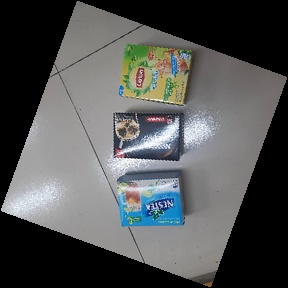CF pho: (112, 110, 184, 162)
LipTon: (117, 42, 193, 107)
Nestea: (115, 171, 189, 227)
